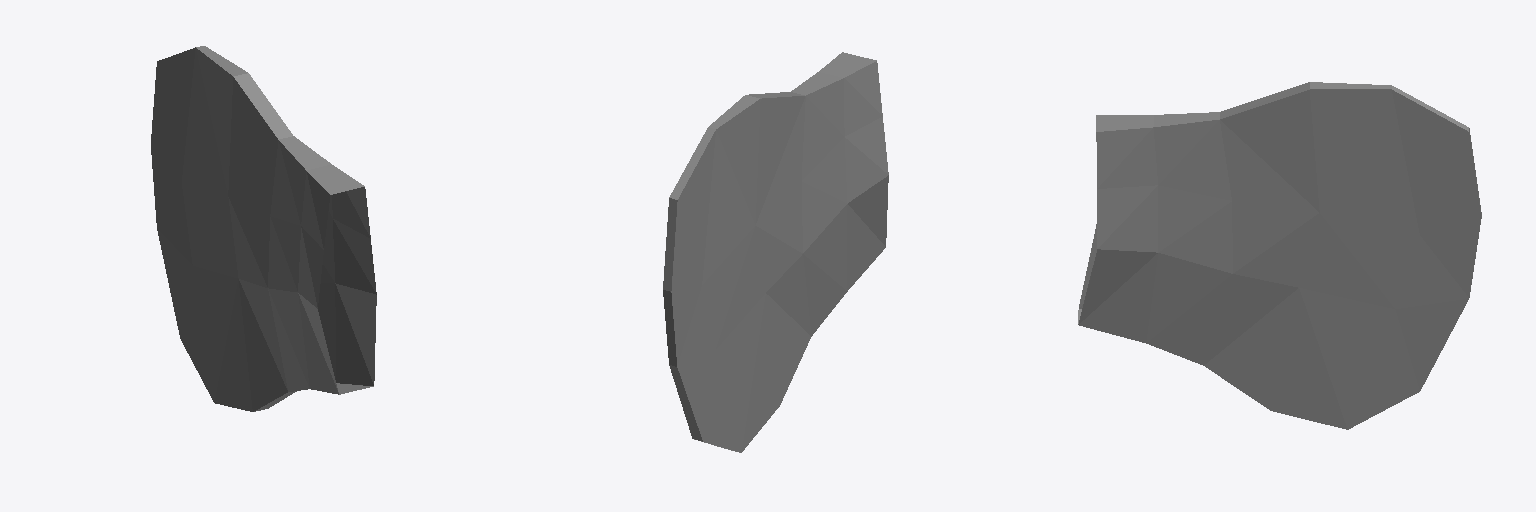
File: Colita.obj
3 views of the same model, side by side, from view 1: azimuth 30°, elevation 25°; view 2: azimuth 150°, elevation 25°; view 3: azimuth 270°, elevation 25° (orthographic).
Visible parts, largest first — view 1: Colita; view 2: Colita; view 3: Colita.
Part boxes in pixels (left/top/right/bottom): Colita: left=151, top=46, right=376, bottom=411; Colita: left=663, top=52, right=888, bottom=452; Colita: left=1078, top=82, right=1481, bottom=429.
Bounding box in the file's own units: 1.03 × 5.68 × 6.11.